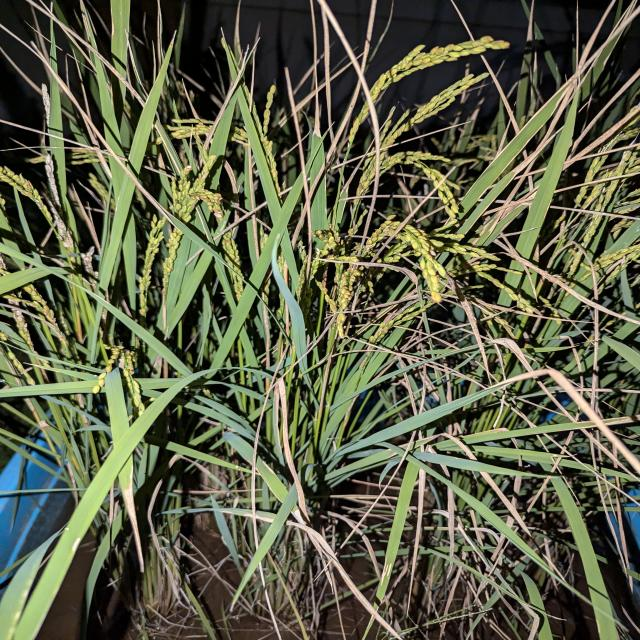9month_ine: (154, 3, 500, 625), (358, 0, 640, 634), (0, 0, 216, 620)
